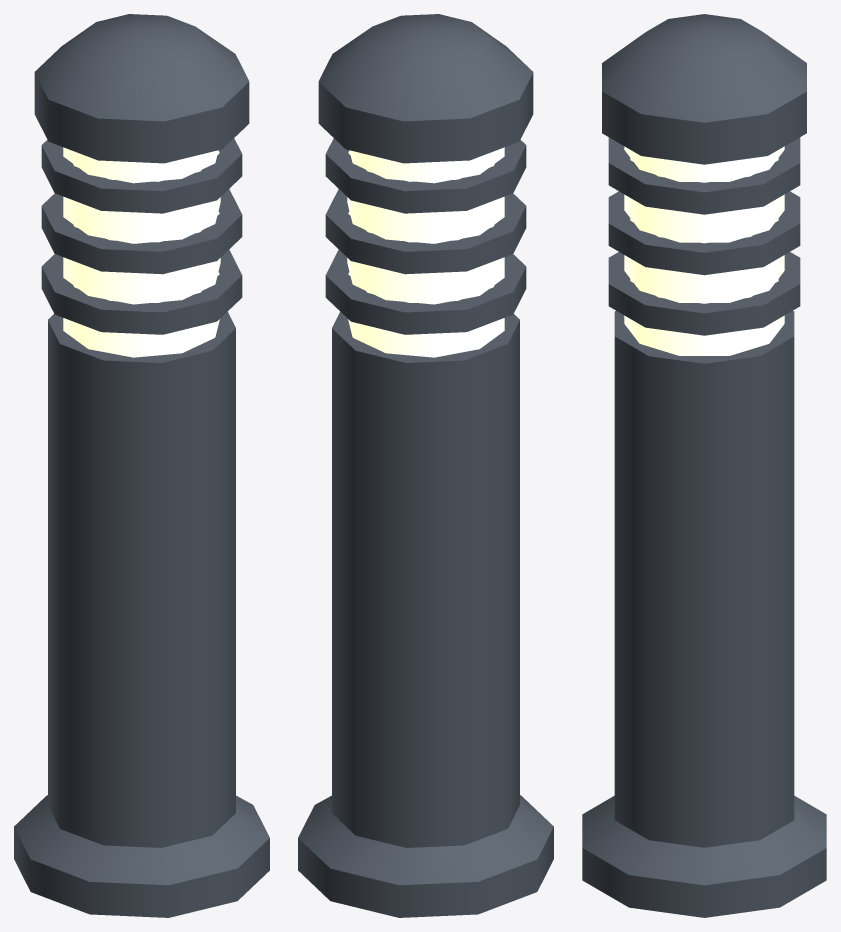
The model's file is bollard_light.glb.
3 renders of one model, left to right at view 1: azimuth 30°, elevation 25°; view 2: azimuth 150°, elevation 25°; view 3: azimuth 270°, elevation 25°, orthographic.
Parts seen in each view (by area): view 1: bollard_light; view 2: bollard_light; view 3: bollard_light.
Boxes of the visible parts, bbox=[...] form: bollard_light: bbox=[14, 14, 269, 917]; bollard_light: bbox=[298, 14, 553, 917]; bollard_light: bbox=[582, 14, 826, 917].
Size of the model in its own units: 0.25 by 0.895 by 0.2378.
